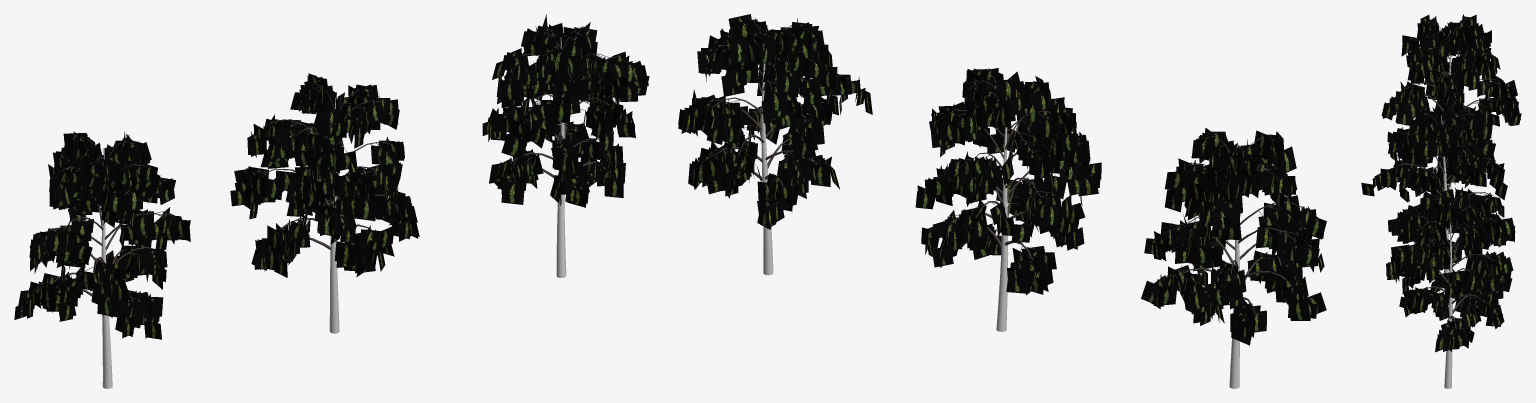
Rendered from birch.glb.
3 renders of one model, left to right at view 1: azimuth 30°, elevation 25°; view 2: azimuth 150°, elevation 25°; view 3: azimuth 270°, elevation 25°, orthographic. The views are drawn at different scales.
Visible parts, largest first — view 1: VK koivu b, VK koivu a, VK koivu c; view 2: VK koivu b, VK koivu a, VK koivu c; view 3: VK koivu c, VK koivu b, VK koivu a.
Part boxes in pixels (<box>): VK koivu b: <box>230,73,419,333</box>; VK koivu a: <box>14,131,190,388</box>; VK koivu c: <box>482,14,649,277</box>; VK koivu b: <box>915,68,1101,331</box>; VK koivu a: <box>1141,128,1326,388</box>; VK koivu c: <box>678,14,872,275</box>; VK koivu c: <box>1386,187,1513,388</box>; VK koivu b: <box>1361,102,1515,294</box>; VK koivu a: <box>1381,14,1521,189</box>.
Size of the model in its own units: 27.41 by 10.63 by 7.88.
3 materials, 1 textured.
